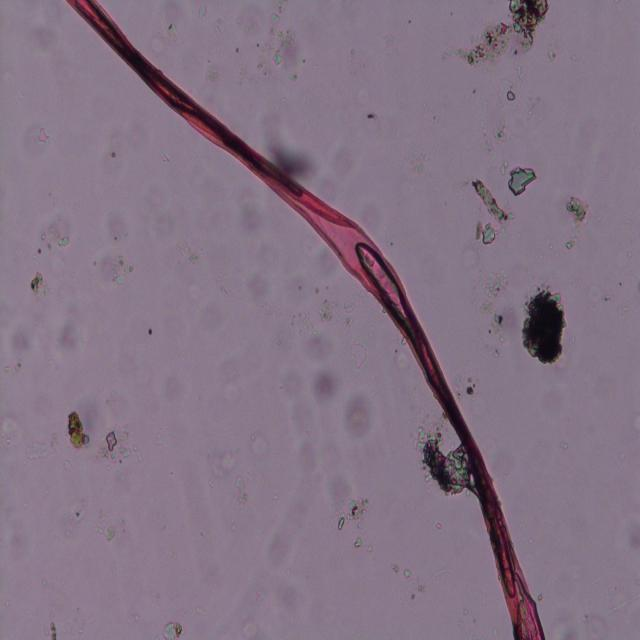Background material: (274, 423, 361, 565), (455, 1, 547, 70), (264, 110, 318, 182), (525, 281, 569, 369), (95, 207, 143, 283), (421, 426, 471, 496), (482, 83, 538, 143), (478, 283, 520, 355), (233, 182, 281, 244), (304, 324, 336, 404), (0, 302, 34, 365), (147, 0, 185, 56), (470, 177, 512, 224), (268, 25, 304, 72), (344, 392, 376, 440), (319, 294, 356, 335), (339, 498, 368, 548), (101, 420, 133, 461), (39, 212, 72, 251), (506, 162, 538, 197), (64, 408, 90, 451), (24, 119, 54, 155), (456, 247, 488, 278), (563, 193, 589, 228), (347, 333, 369, 372), (474, 219, 502, 248), (228, 469, 248, 503), (158, 617, 184, 639), (28, 272, 48, 292), (56, 334, 78, 352), (196, 4, 210, 22)
Cotton: (66, 0, 547, 637)
